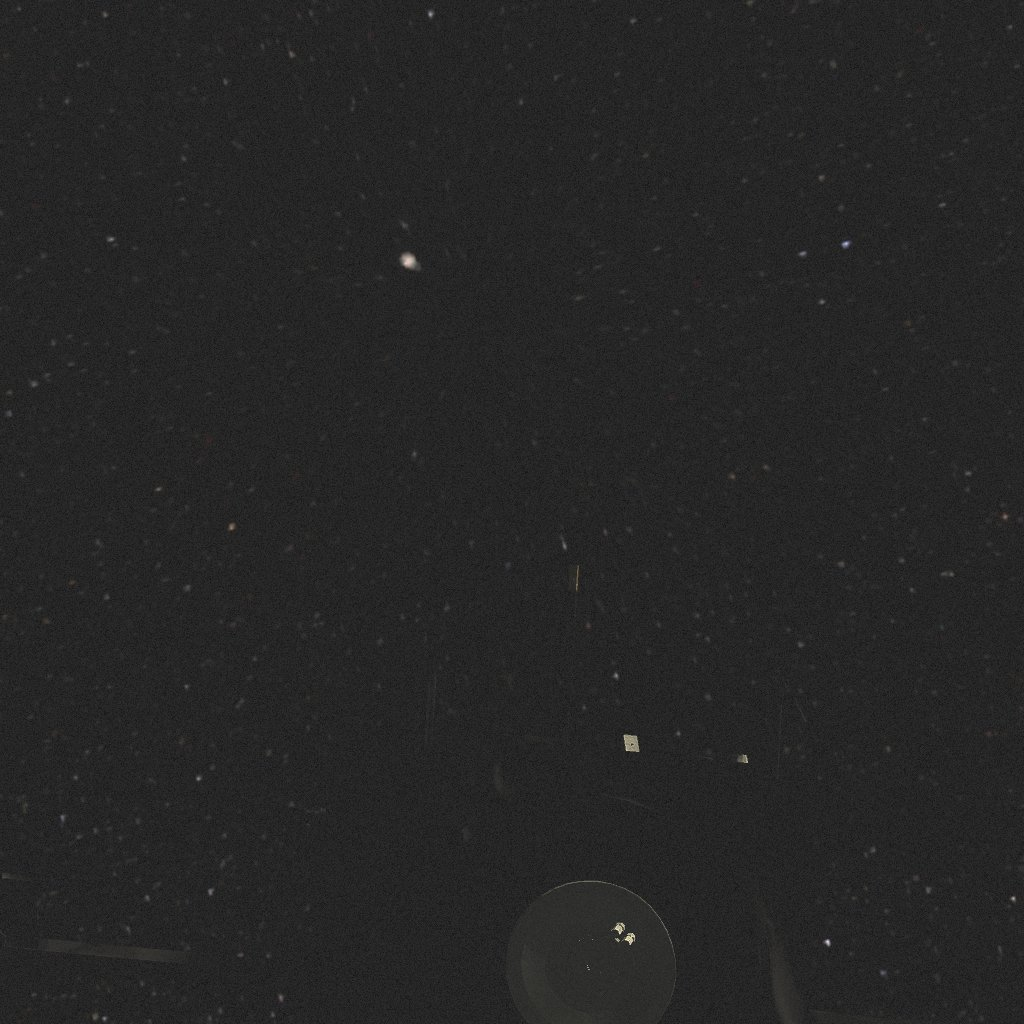smart_1: (0, 565, 952, 1024)
